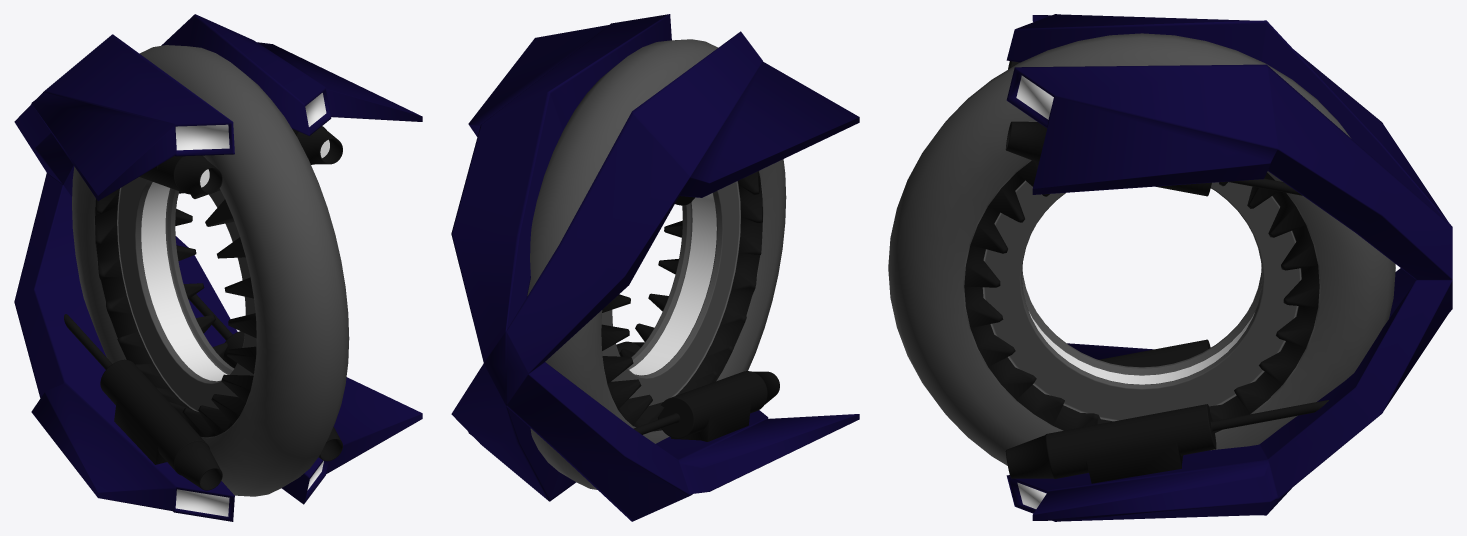
Rendered from CircleDrone.fbx.
3 renders of one model, left to right at view 1: azimuth 30°, elevation 25°; view 2: azimuth 150°, elevation 25°; view 3: azimuth 270°, elevation 25°, orthographic. The views are drawn at different scales.
Visible parts, largest first — view 1: Torus; view 2: Torus; view 3: Torus.
Part boxes in pixels (x1=…): Torus: x1=14, y1=14, x2=422, y2=521; Torus: x1=451, y1=14, x2=859, y2=521; Torus: x1=888, y1=14, x2=1452, y2=521.
Size of the model in its own units: 9147 by 11278 by 12543.
